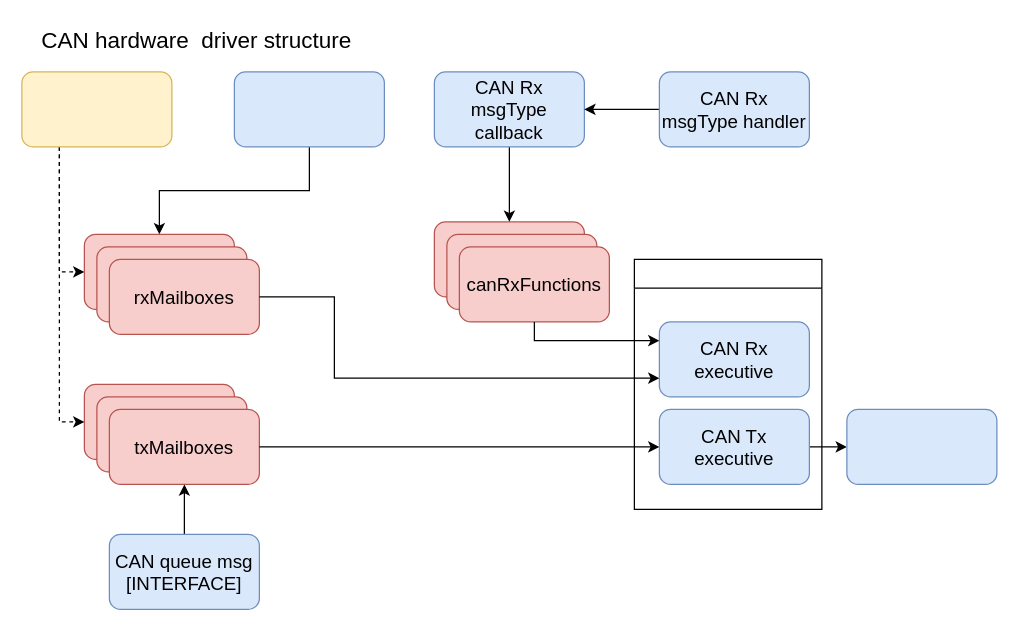
Some shapes in this 1019 by 631 pixel diagram are drawn without their labels. The shapes that lost their labels are listed below. From the top down, each one's centre as x and y in pixels, then its label:
At point 96,109: "can message type".
At point 308,109: "CAN Rx IRQ handler [HAL]".
At point 727,383: "Main loop".
At point 921,446: "CAN add Tx [HAL]".
